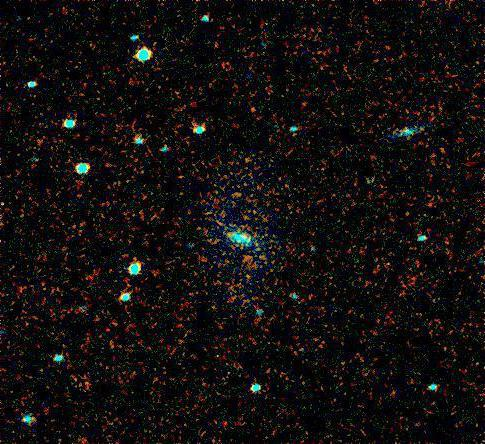star: (235, 266, 265, 296)
